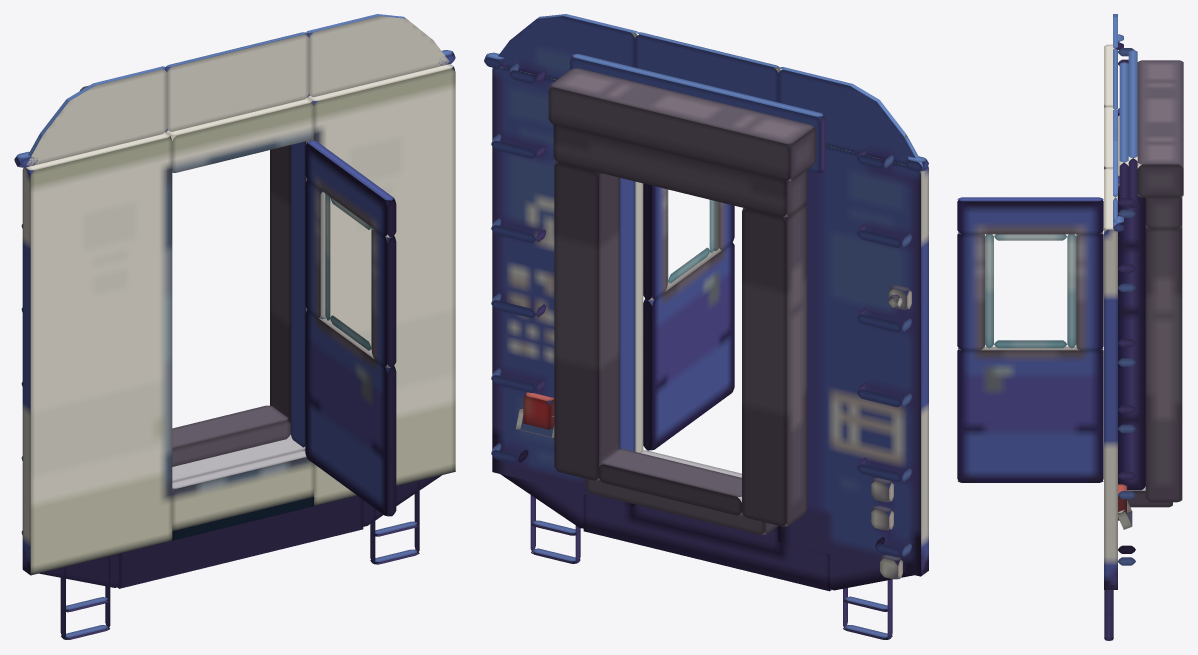
File: wx980_door_end_face_open.obj
3 renders of one model, left to right at view 1: azimuth 30°, elevation 25°; view 2: azimuth 150°, elevation 25°; view 3: azimuth 270°, elevation 25°, orthographic. The views are drawn at different scales.
Visible parts, largest first — view 1: part_08b17dcb69c36fdf7963f375f68d29d6, part_3851758af59c0c640f49611af8fa1ef2, part_47e4f815aded3629c8d13fc13840b64b, part_bfd558084b915211d0d8719fd4319af4, part_6f2b54585f4e0ed23b856ba3ed32e6cd, part_ac7846158064679482825a7a89515bd7, part_85a14d5aa97973eba1c62f13fbaa1d10, part_f7e26d38d634b981a5bc06cebc1624b2, part_2f510c72c4b8268ea05ca84d9b40bb7a, part_d09307f7a0194ecc719f79a5cc58cd64, part_8b1a8e610ceb26244487fab0dbb1ffa6, part_9539d1a54be1c81f38c39eecbd91030e (+5 smaller); view 2: part_08b17dcb69c36fdf7963f375f68d29d6, part_3851758af59c0c640f49611af8fa1ef2, part_56b6bd73a3d9a4642970caaa7551b512, part_f7e26d38d634b981a5bc06cebc1624b2, part_47e4f815aded3629c8d13fc13840b64b, part_adb62e560b791ccd5264ab1bb98a3912, part_bfd558084b915211d0d8719fd4319af4, part_b62731f2be6c43449145a1e8127d45ef, part_6f2b54585f4e0ed23b856ba3ed32e6cd, part_d09307f7a0194ecc719f79a5cc58cd64, part_2f510c72c4b8268ea05ca84d9b40bb7a, part_0e3fc5bcc9c4f23eef3bbdbba069e3c3 (+7 smaller); view 3: part_bfd558084b915211d0d8719fd4319af4, part_f7e26d38d634b981a5bc06cebc1624b2, part_2f510c72c4b8268ea05ca84d9b40bb7a, part_adb62e560b791ccd5264ab1bb98a3912, part_3851758af59c0c640f49611af8fa1ef2, part_8b1a8e610ceb26244487fab0dbb1ffa6, part_ee50952289d6dfa6e4f550899d7b297f, part_9539d1a54be1c81f38c39eecbd91030e, part_0e3fc5bcc9c4f23eef3bbdbba069e3c3, part_5697e87c2ea400b8528a23bdbd00fc05, part_b62731f2be6c43449145a1e8127d45ef, part_aa25432b474ca99ed6d1556558205a10 (+8 smaller).
Part boxes in pixels (x1,y1,x2,y2): part_08b17dcb69c36fdf7963f375f68d29d6: (22,132,172,575); part_3851758af59c0c640f49611af8fa1ef2: (306,64,455,506); part_47e4f815aded3629c8d13fc13840b64b: (26,14,449,166); part_bfd558084b915211d0d8719fd4319af4: (305,310,396,516); part_6f2b54585f4e0ed23b856ba3ed32e6cd: (117,496,363,588); part_ac7846158064679482825a7a89515bd7: (172,450,314,540); part_85a14d5aa97973eba1c62f13fbaa1d10: (166,97,313,172); part_f7e26d38d634b981a5bc06cebc1624b2: (270,145,290,422); part_2f510c72c4b8268ea05ca84d9b40bb7a: (290,141,305,447); part_d09307f7a0194ecc719f79a5cc58cd64: (172,405,290,466); part_8b1a8e610ceb26244487fab0dbb1ffa6: (305,140,396,237); part_9539d1a54be1c81f38c39eecbd91030e: (372,229,396,367); part_08b17dcb69c36fdf7963f375f68d29d6: (778,146,928,576); part_3851758af59c0c640f49611af8fa1ef2: (492,67,643,506); part_56b6bd73a3d9a4642970caaa7551b512: (742,204,807,526); part_f7e26d38d634b981a5bc06cebc1624b2: (554,161,619,480); part_47e4f815aded3629c8d13fc13840b64b: (497,14,922,167); part_adb62e560b791ccd5264ab1bb98a3912: (548,68,816,181); part_bfd558084b915211d0d8719fd4319af4: (643,242,734,450); part_b62731f2be6c43449145a1e8127d45ef: (553,125,807,217); part_6f2b54585f4e0ed23b856ba3ed32e6cd: (583,494,831,591); part_d09307f7a0194ecc719f79a5cc58cd64: (598,449,742,515); part_2f510c72c4b8268ea05ca84d9b40bb7a: (619,178,635,451); part_0e3fc5bcc9c4f23eef3bbdbba069e3c3: (570,54,825,172); part_bfd558084b915211d0d8719fd4319af4: (957,346,1103,482); part_f7e26d38d634b981a5bc06cebc1624b2: (1145,225,1182,502); part_2f510c72c4b8268ea05ca84d9b40bb7a: (1118,176,1145,490); part_adb62e560b791ccd5264ab1bb98a3912: (1137,60,1183,197); part_3851758af59c0c640f49611af8fa1ef2: (1104,168,1117,589); part_8b1a8e610ceb26244487fab0dbb1ffa6: (957,197,1103,234); part_ee50952289d6dfa6e4f550899d7b297f: (1076,233,1103,350); part_9539d1a54be1c81f38c39eecbd91030e: (957,233,984,350); part_0e3fc5bcc9c4f23eef3bbdbba069e3c3: (1128,50,1137,207); part_5697e87c2ea400b8528a23bdbd00fc05: (1119,62,1128,199); part_b62731f2be6c43449145a1e8127d45ef: (1145,197,1182,228); part_aa25432b474ca99ed6d1556558205a10: (1067,234,1076,348).
Size of the model in its own units: 3.06 by 3.66 by 1.55.
